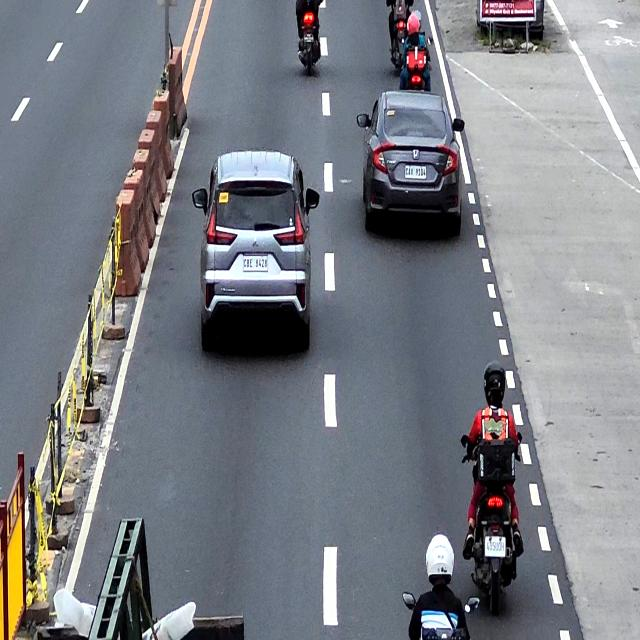Car: (193, 152, 319, 352), (357, 90, 464, 240)
License-Plate: (485, 537, 506, 559), (242, 255, 269, 272), (405, 164, 426, 179), (304, 33, 314, 42)
Motorcycle: (461, 432, 524, 614), (400, 31, 434, 92), (296, 0, 322, 75), (389, 0, 412, 75)
